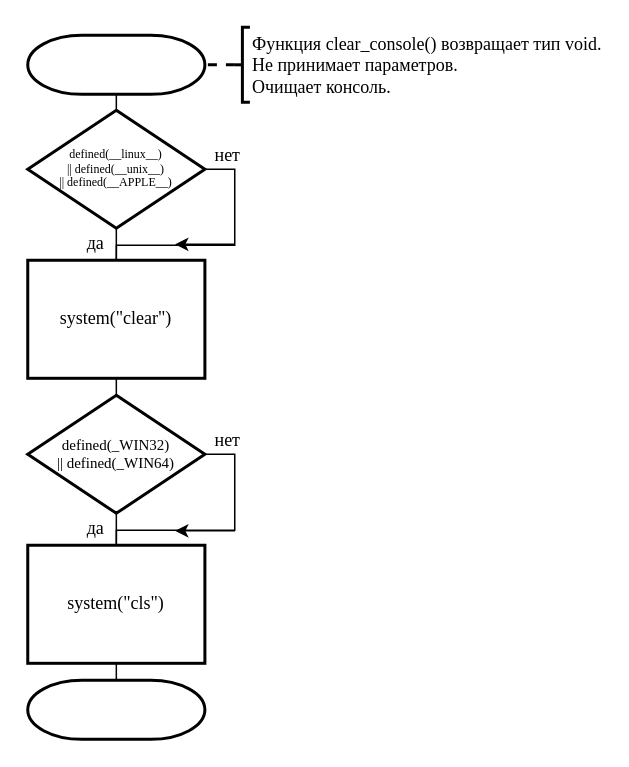
The diagram is 629 pixels wide and 767 high, and some of its shapes have lost their labels. The shapes that lost their labels are listed below. From the top down, each one's centre as x and y in pixels, then its label:
(116,64): void clear_console()
(116,709): Конец
